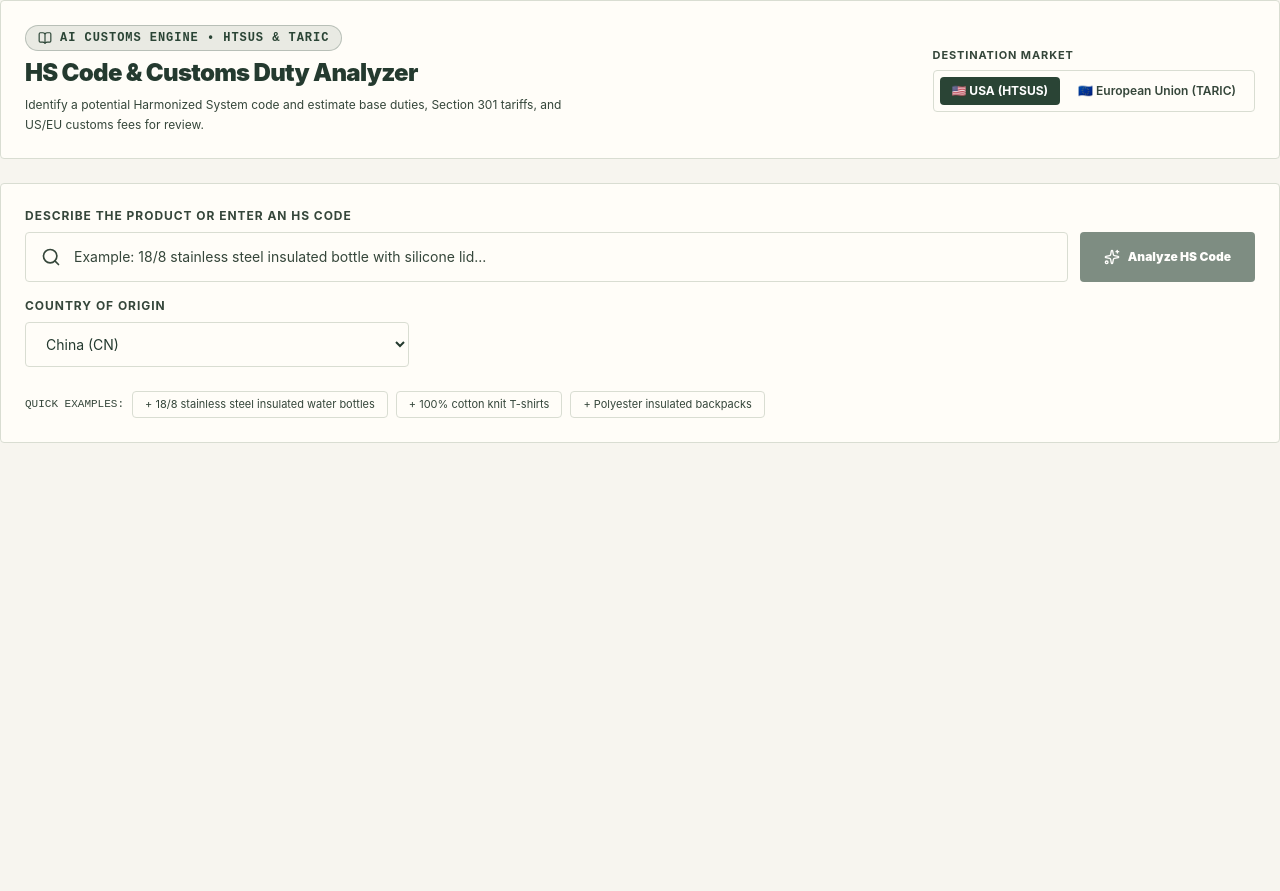
it: HsCodeAnalyzer › shows service errors as alerts and does not keep a stale result
Step 1. Type "stainless steel bottle" into the field labelled "Describe the product or enter an HS code" → (546, 257), box [25,232,1068,282]
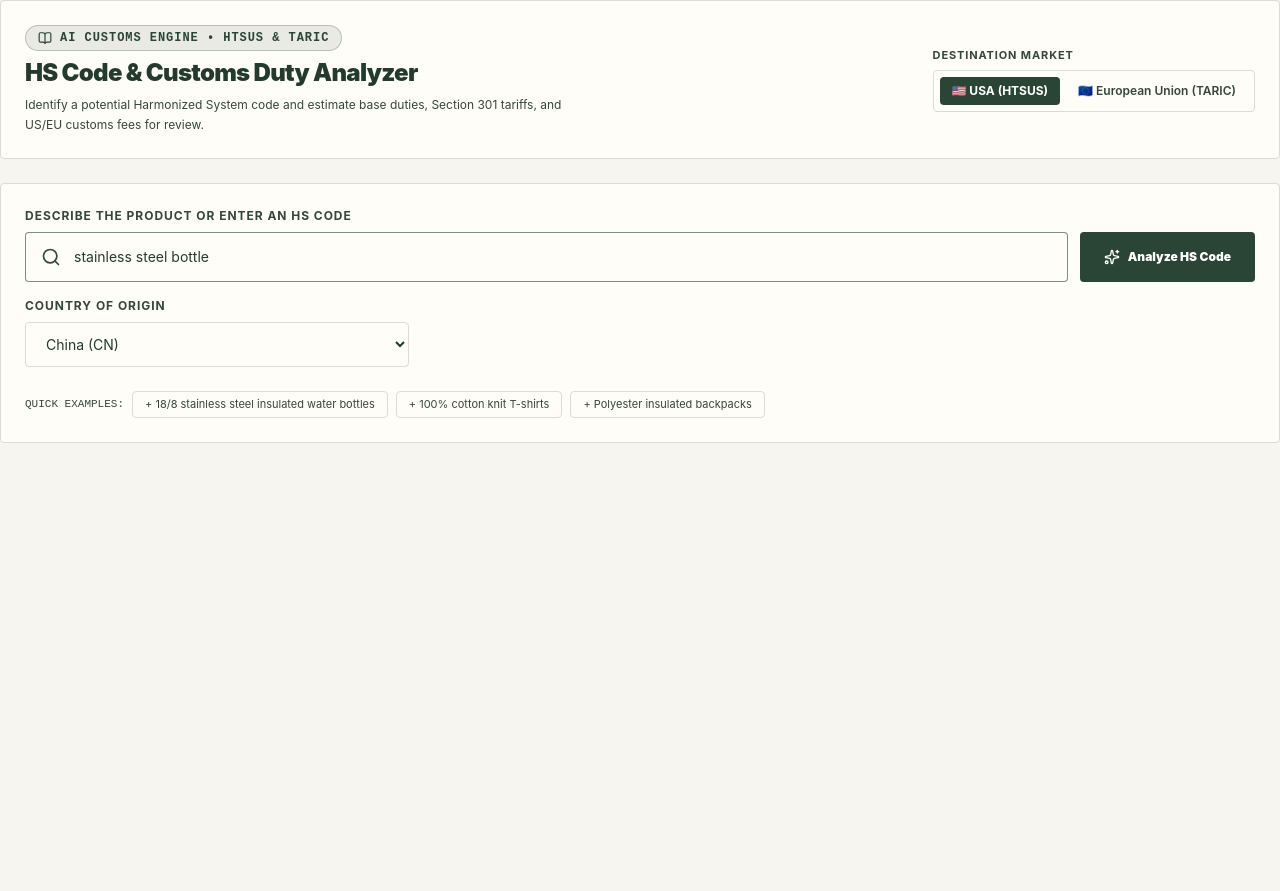
Step 2. Click the button "Analyze HS Code" → (1167, 257), box [1080,232,1255,282]
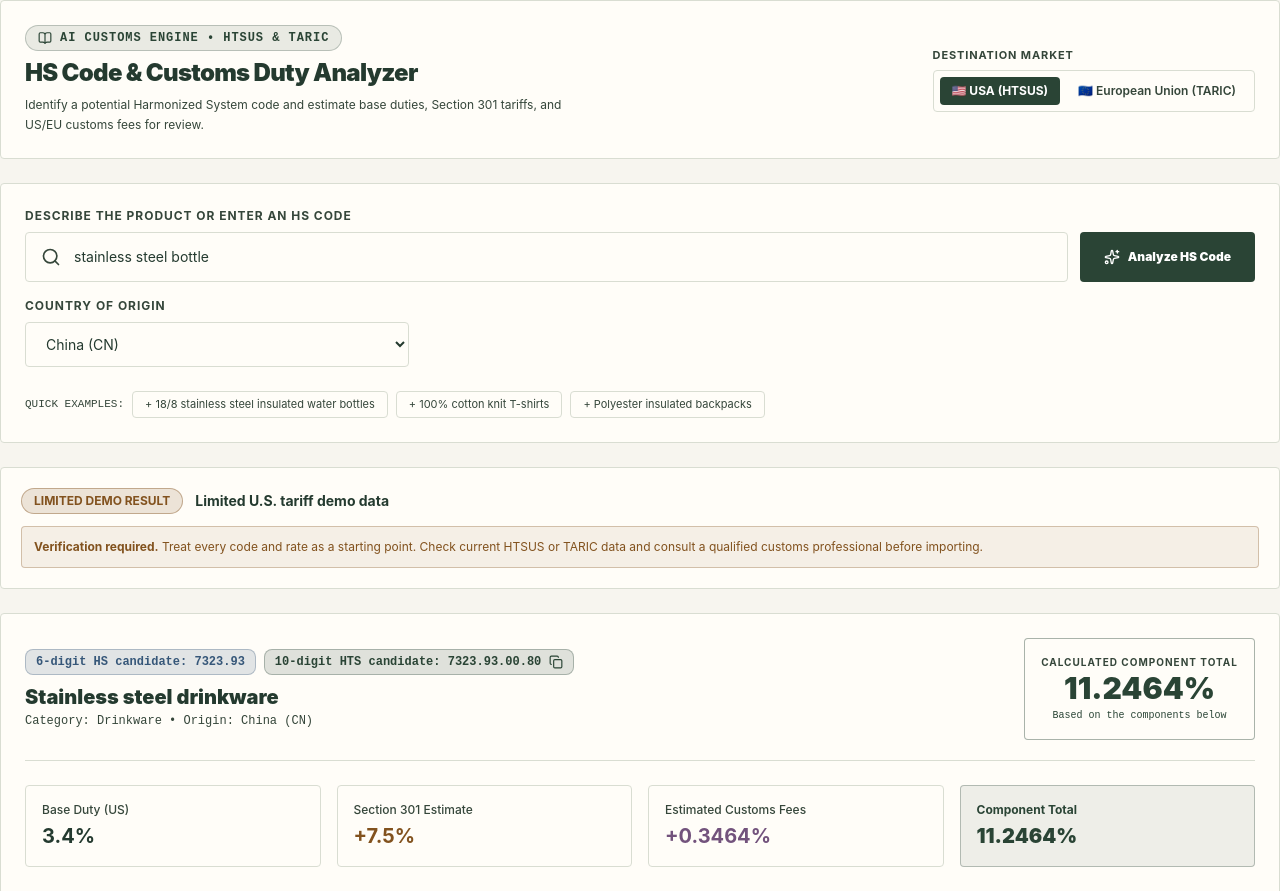
Now the text "Limited demo result" is shown, box [21,488,183,514]
Step 3. Replace the text in the field labelled "Describe the product or enter an HS code" with "wireless earbuds" → (546, 257), box [25,232,1068,282]
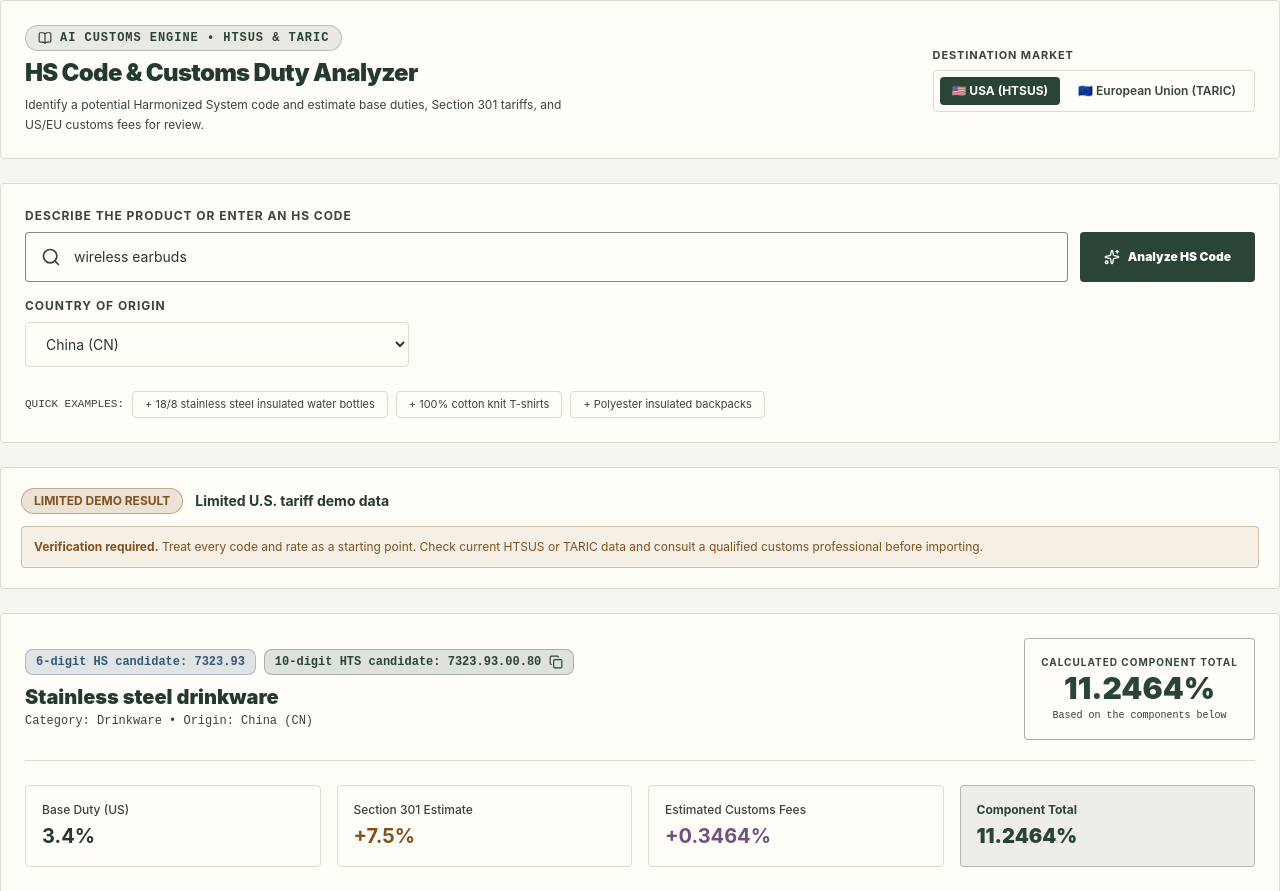
Step 4. Click the button "Analyze HS Code" → (1167, 257), box [1080,232,1255,282]
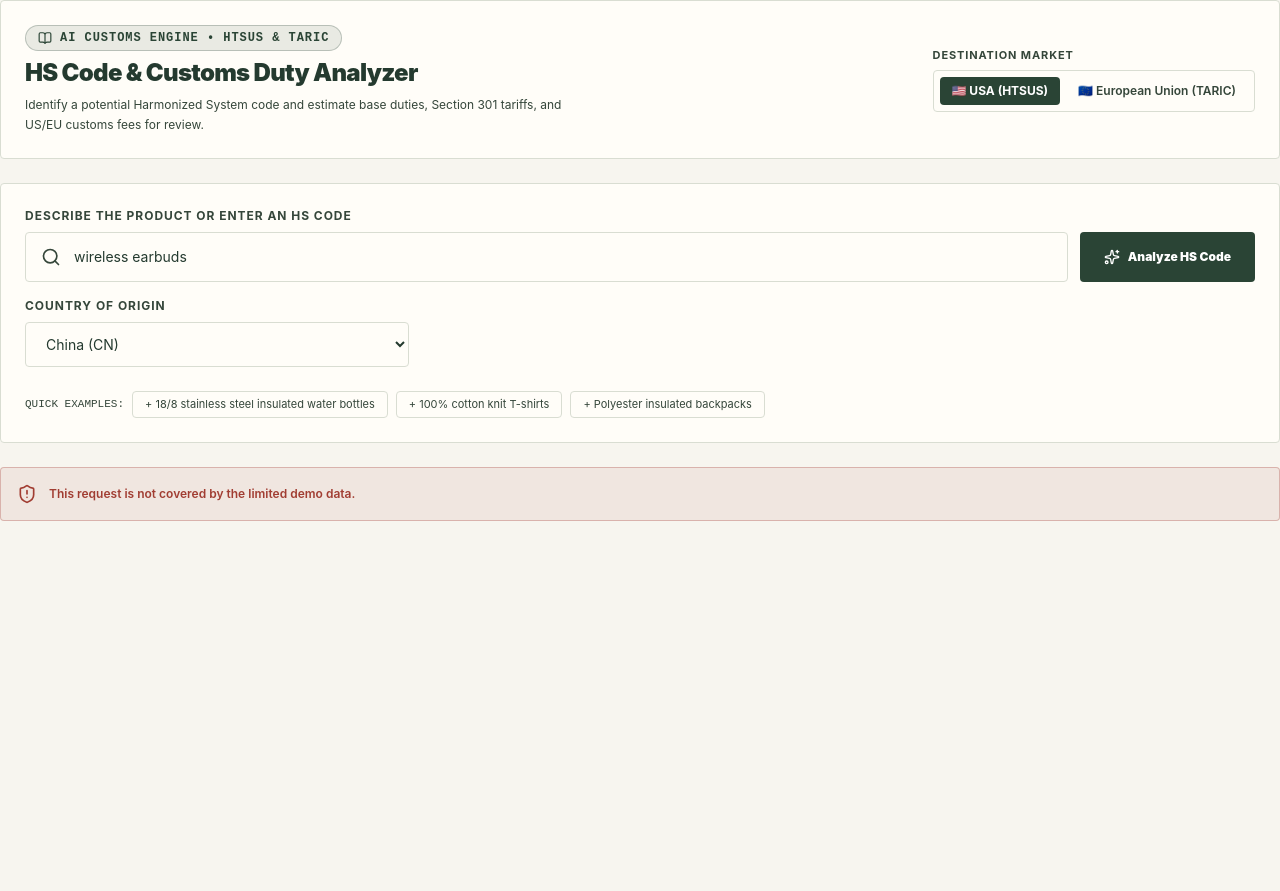
Now the message reads "This request is not covered by the limited demo data.", box [49,486,355,500]
Now the text "Limited demo result" is gone
